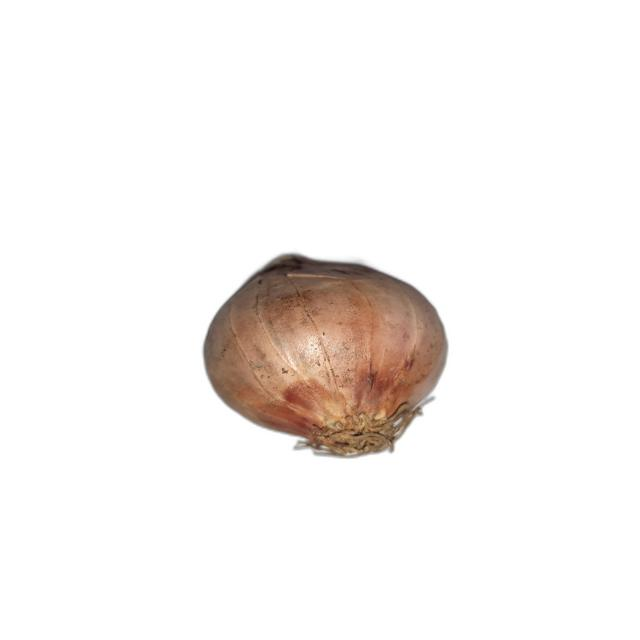onion: (202, 253, 450, 458)
